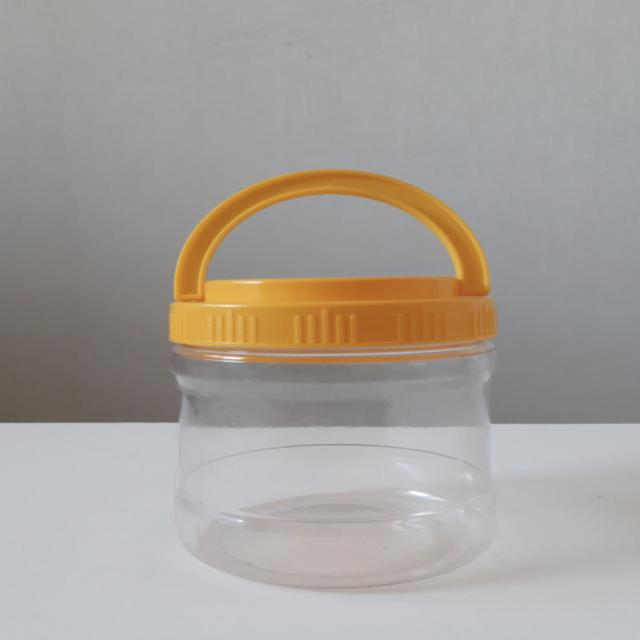recyclable: (130, 140, 538, 599)
